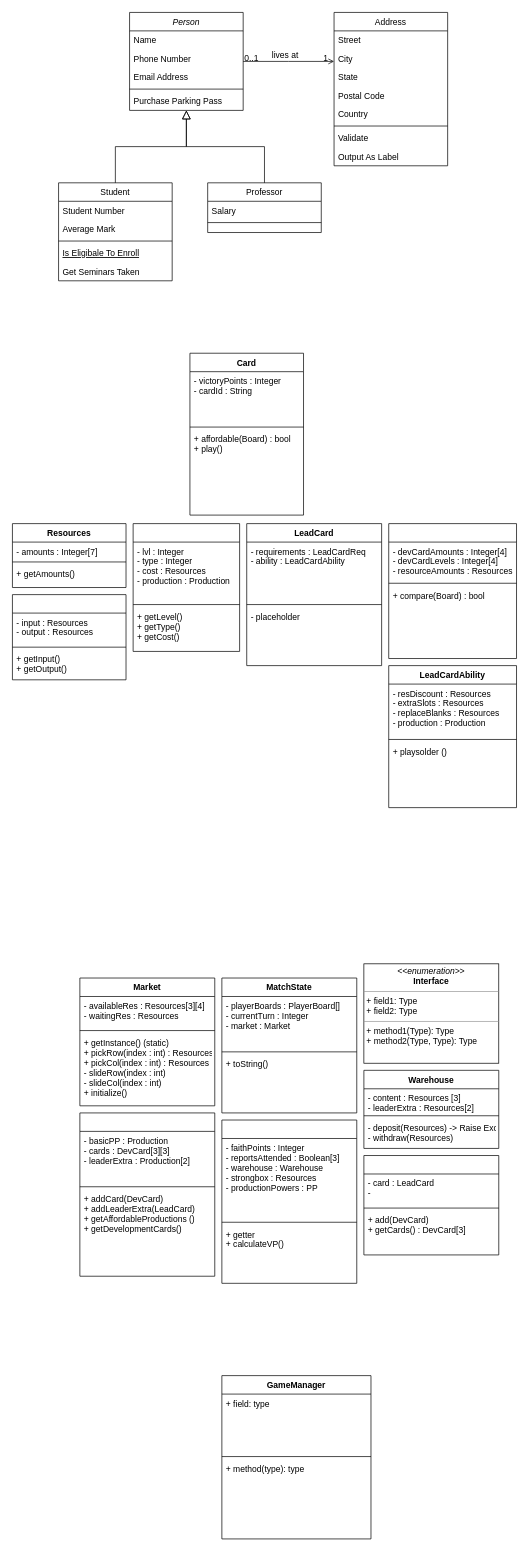
Image size: 529x1553. Some labels were removed from this diagram. Each missing label, with the box of its shape:
DevCard: (132, 523, 240, 651)
LeadCardRequirements: (388, 523, 517, 659)
PlayableLeadCart: (363, 1155, 499, 1255)
PlayerBoard: (221, 1119, 357, 1283)
Production: (12, 594, 126, 680)
ProductionPowers: (79, 1112, 215, 1276)
